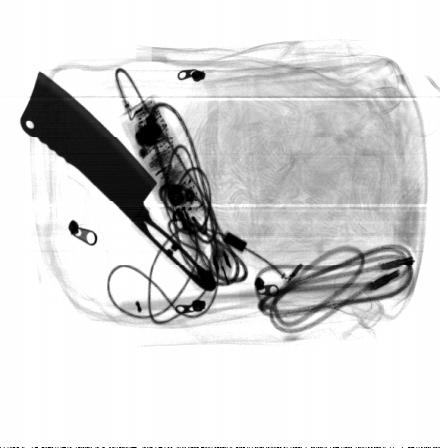Knife: (20, 69, 218, 295)
